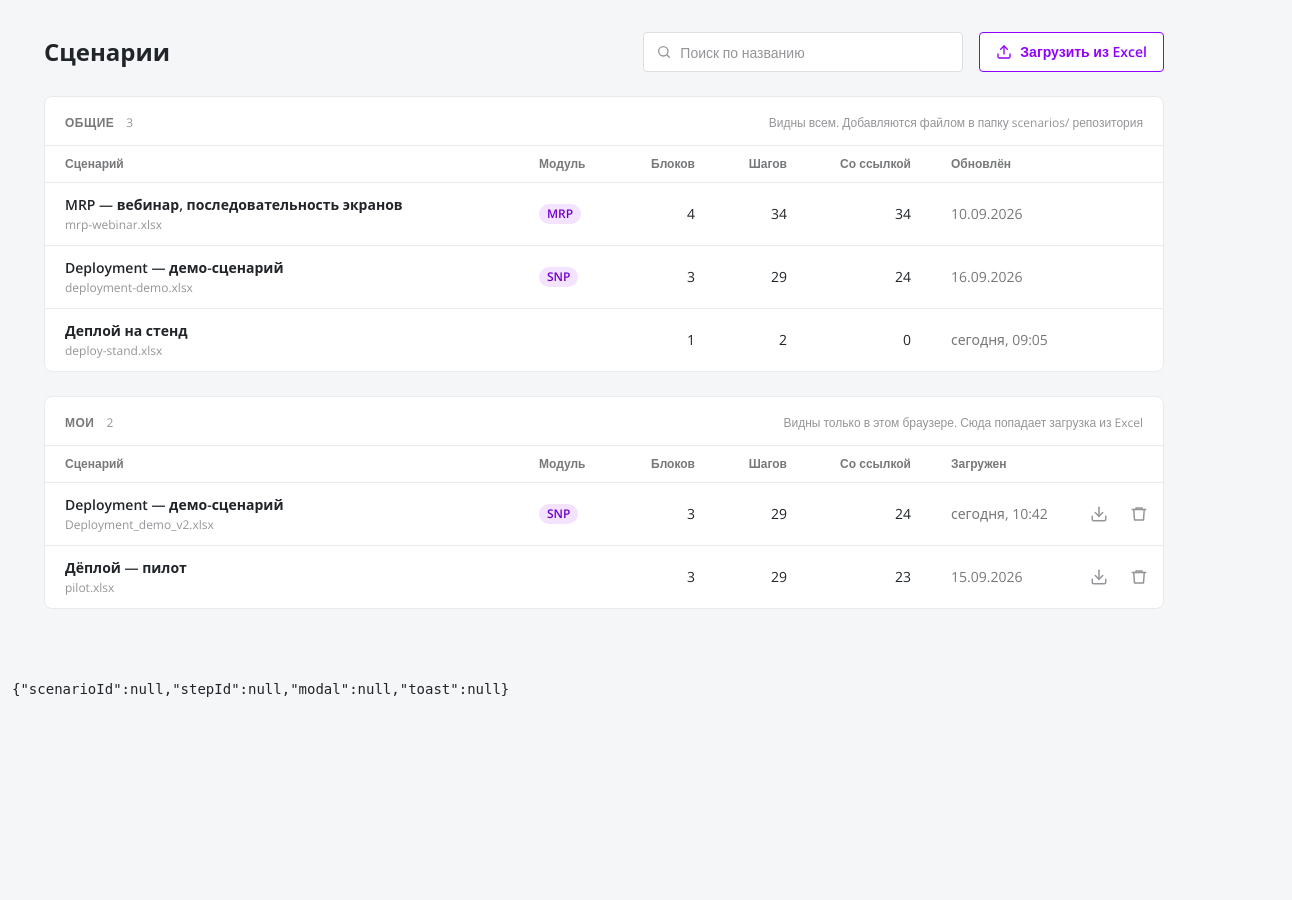
Test case: Catalog: SPEC §4.2:247-257, ТК 26 — SPEC §8:422 › поиск "MRP": «Общие» — только mrp-webinar, «Мои» — «Ничего не найдено»
Type "MRP" into the search field labelled "Поиск по названию".
click(815, 52); type("MRP")  # box [680, 33, 950, 71]
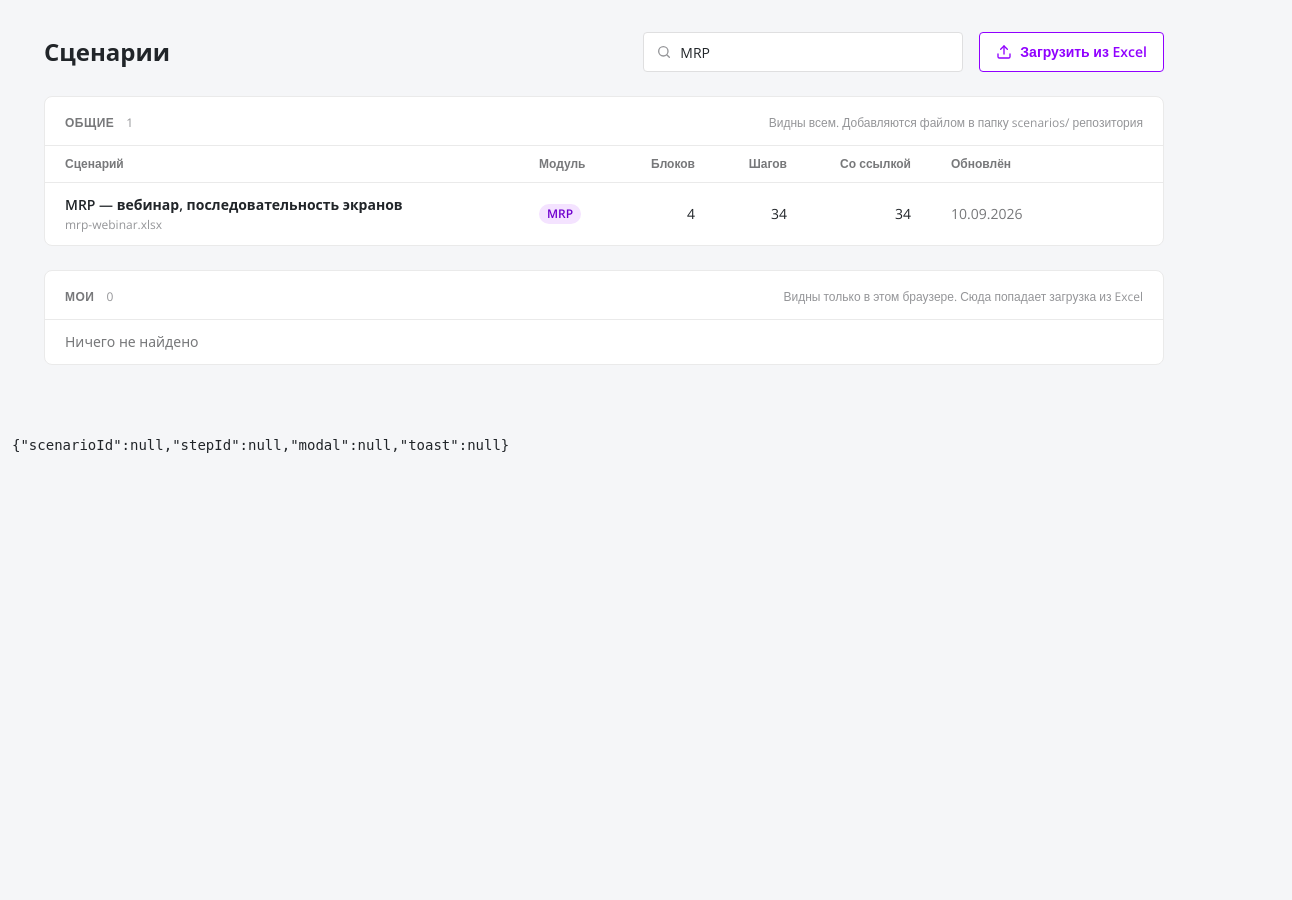
Expected: the text "Ничего не найдено" is shown, [65, 332, 198, 351]
